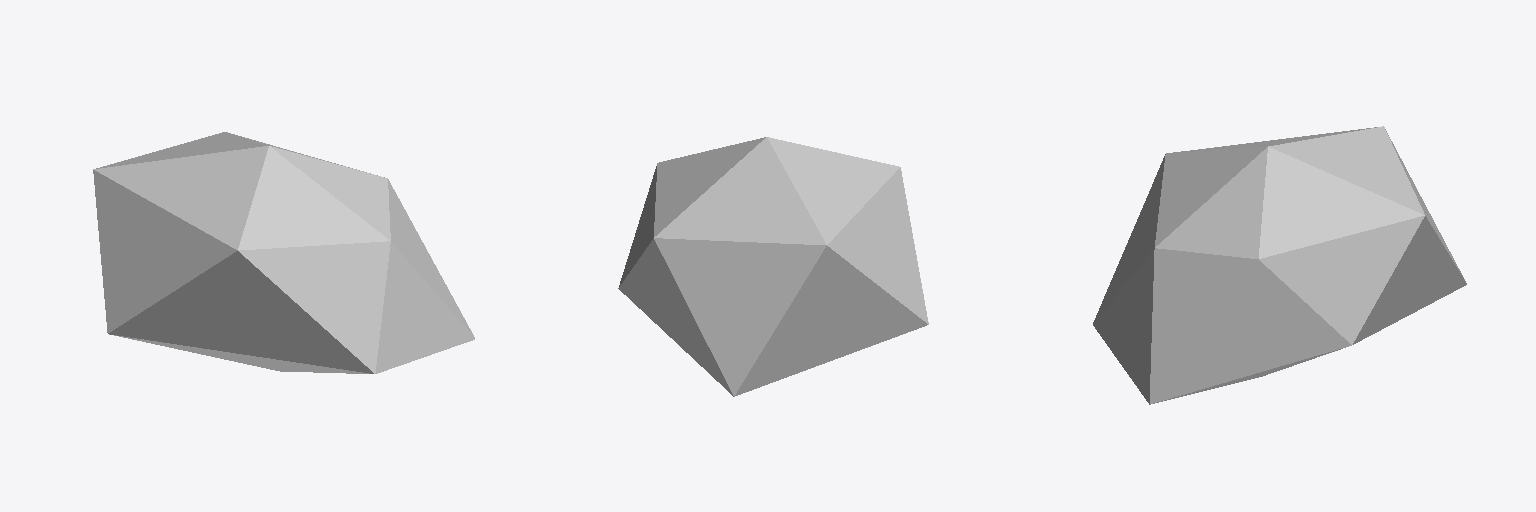
The model's file is stone1.obj.
3 renders of one model, left to right at view 1: azimuth 30°, elevation 25°; view 2: azimuth 150°, elevation 25°; view 3: azimuth 270°, elevation 25°, orthographic.
Parts seen in each view (by area): view 1: Icosphere; view 2: Icosphere; view 3: Icosphere.
Part boxes in pixels (x1,y1,x2,y2): Icosphere: (93, 132, 474, 373); Icosphere: (618, 137, 928, 396); Icosphere: (1093, 126, 1466, 404).
Size of the model in its own units: 0.1359 by 0.0948 by 0.1427.